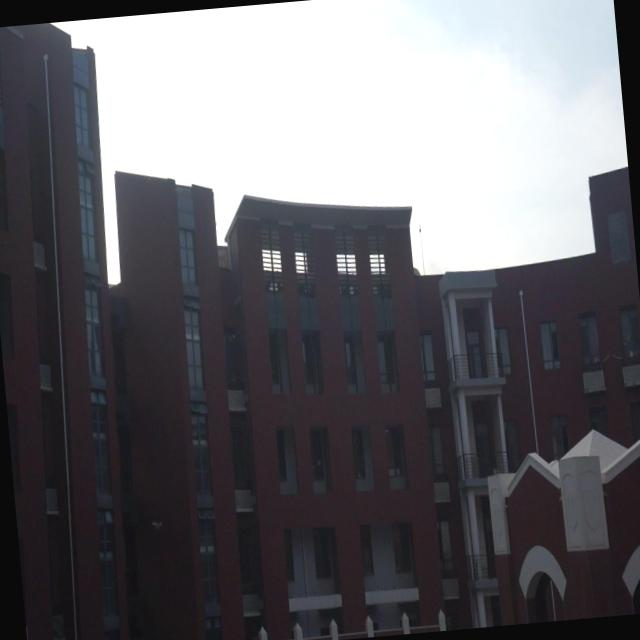drone: (149, 514, 165, 531)
